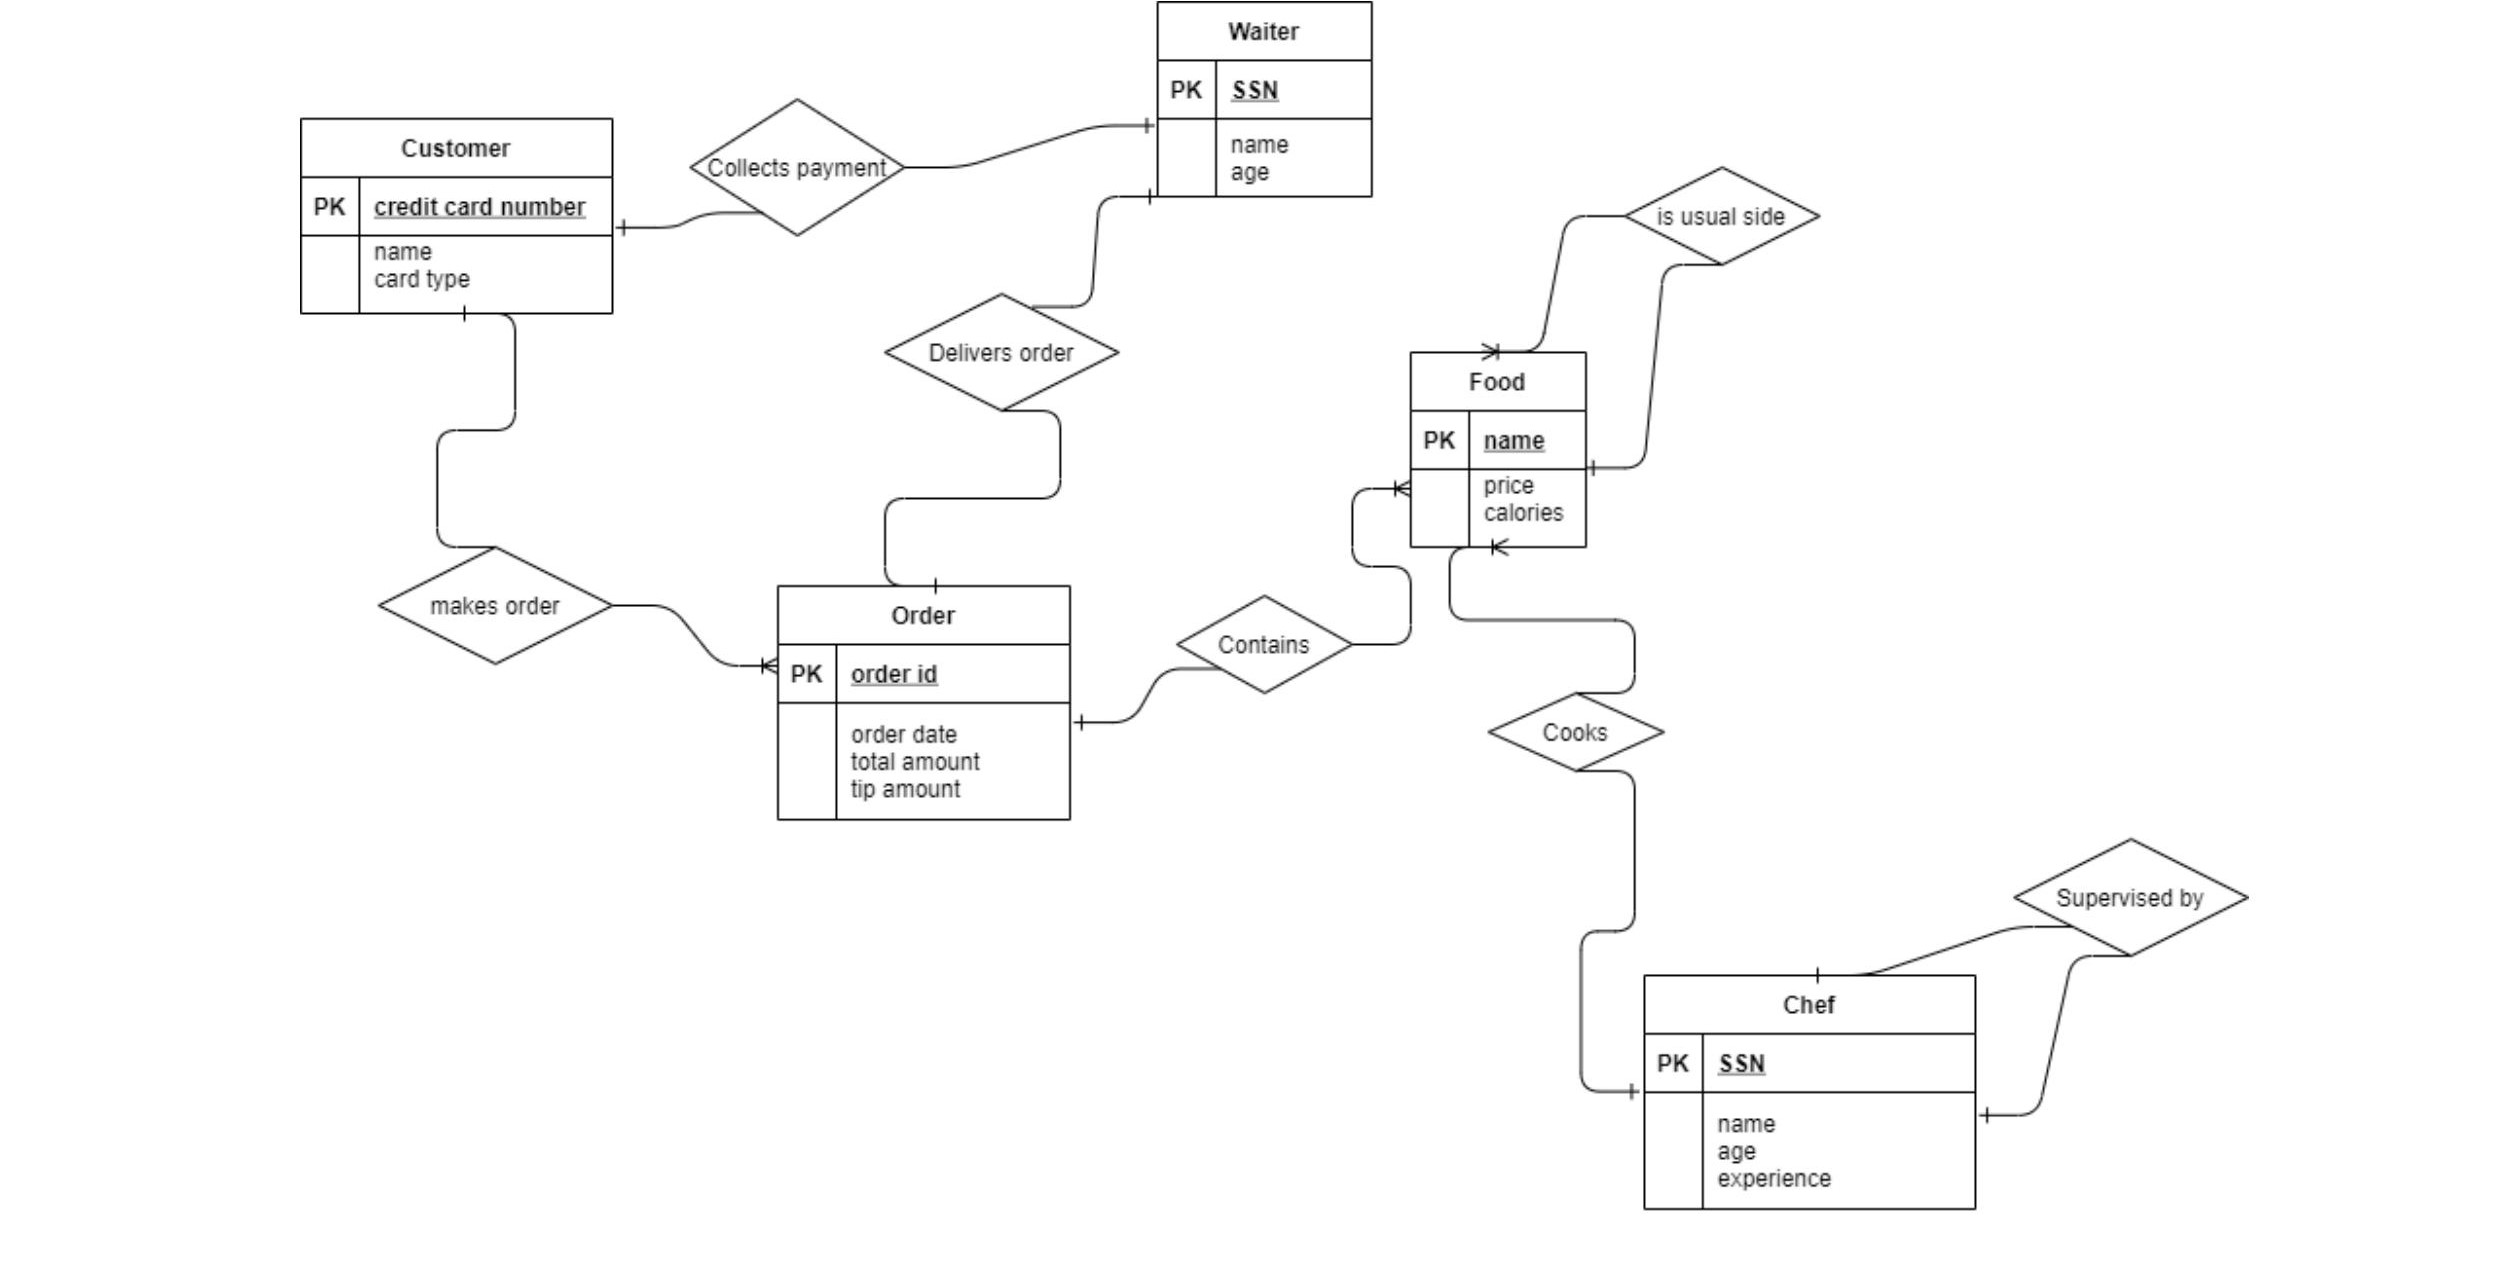Entity: (1632, 967, 1985, 1224), (765, 578, 1080, 829), (292, 106, 619, 327), (1151, 3, 1384, 211), (1400, 341, 1598, 560)
Relationship: (375, 539, 614, 676), (690, 91, 904, 243), (885, 291, 1126, 418), (2011, 836, 2252, 960), (1616, 158, 1828, 266), (1177, 588, 1356, 699), (1480, 686, 1666, 776)
